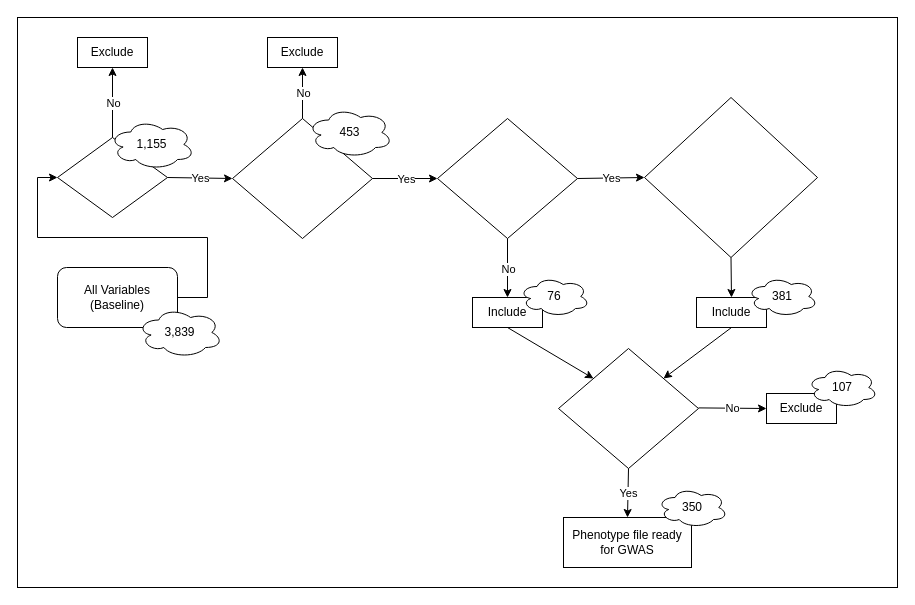
Image size: 915x605. Some labels were removed from this diagram. Each missing label, with the box of its shape:
Cross-reference with the original CLSA questionnaire and recode manually: (644, 96, 818, 258)
Does it have at least 1,000 cases?: (232, 118, 372, 238)
Does it have GWAS relevance?: (558, 348, 698, 468)
Does it have missing values?: (436, 118, 578, 238)
Is it Binary?: (56, 136, 168, 218)
